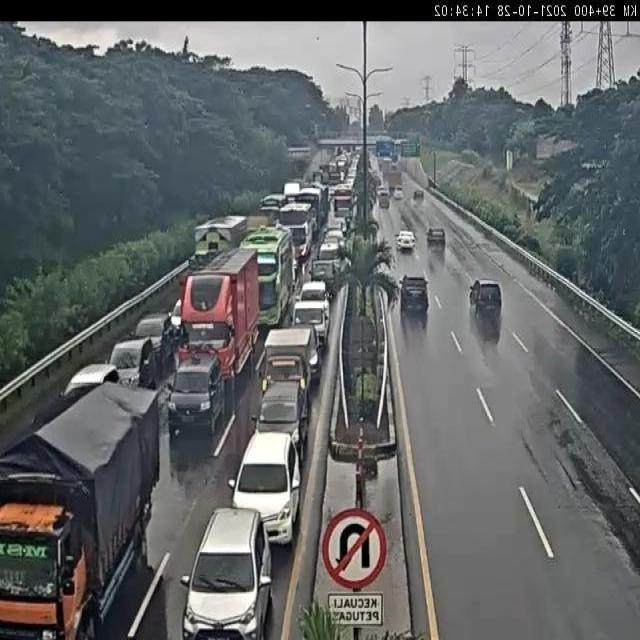Car: (178, 508, 268, 631), (231, 433, 300, 543), (167, 352, 224, 436), (258, 379, 306, 451), (133, 313, 176, 379), (65, 362, 119, 398), (470, 281, 503, 339), (296, 298, 331, 352), (397, 269, 432, 322), (310, 259, 338, 294), (300, 280, 328, 303), (324, 232, 347, 257), (426, 227, 446, 249), (396, 230, 416, 249), (378, 191, 390, 208), (394, 187, 404, 200), (413, 189, 423, 200)
Truck: (0, 383, 153, 636), (180, 252, 260, 353), (240, 228, 292, 316)
